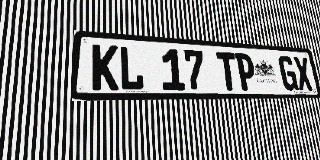1: (161, 48, 185, 90)
7: (183, 50, 206, 90)
G: (277, 56, 299, 90)
K: (92, 44, 118, 90)
L: (119, 46, 144, 90)
P: (235, 53, 257, 90)
T: (216, 52, 239, 90)
X: (293, 57, 313, 91)
